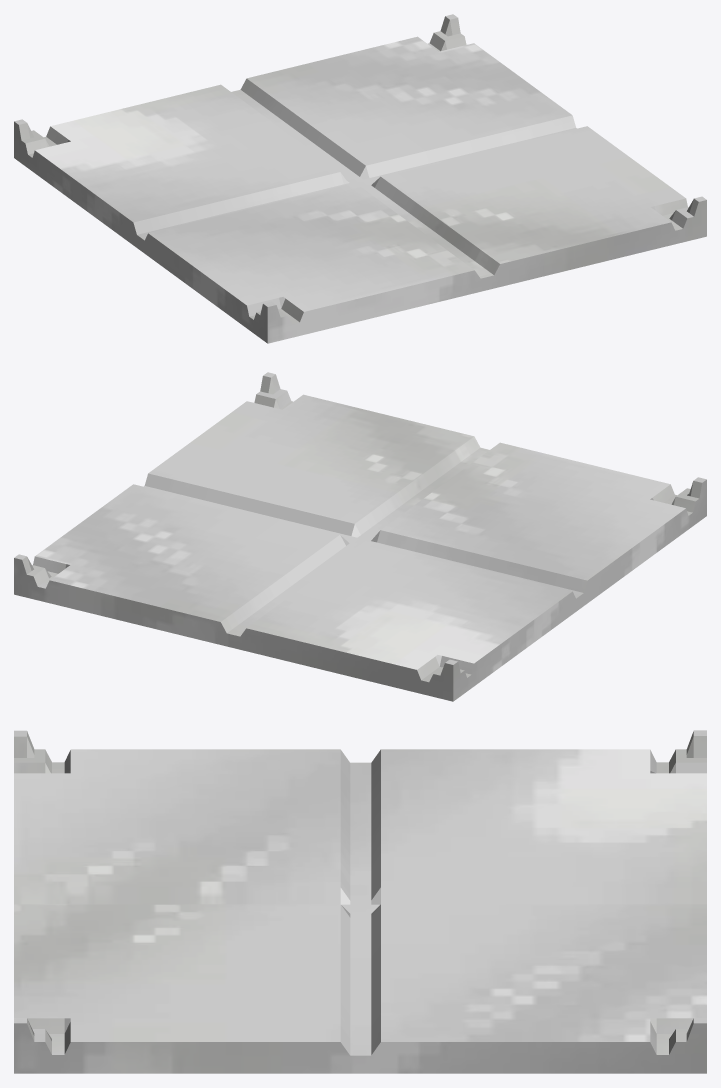
File: FourwayFloor.fbx
3 views of the same model, one above another, from view 1: azimuth 30°, elevation 25°; view 2: azimuth 150°, elevation 25°; view 3: azimuth 270°, elevation 25° (orthographic). The views are drawn at different scales.
Parts seen in each view (by area): view 1: pCube183; view 2: pCube183; view 3: pCube183.
Part boxes in pixels (x1,y1,x2,y2): pCube183: (14,14,706,343); pCube183: (14,372,706,701); pCube183: (14,730,706,1073).
Bounding box in the file's own units: 500 × 39.98 × 500.
1 material, 1 textured.
